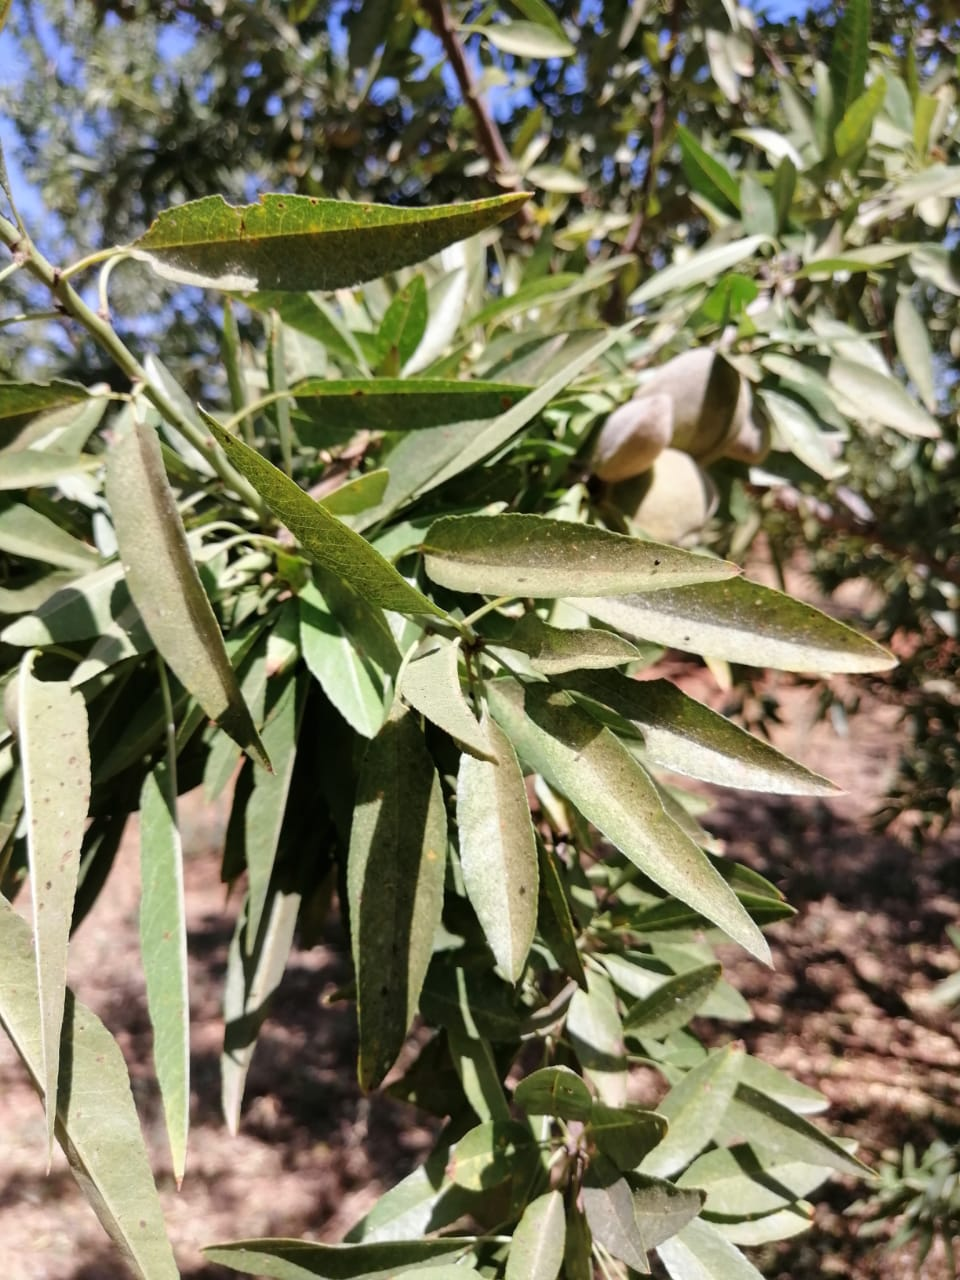acariens: (486, 675, 779, 971), (194, 399, 453, 615), (1, 672, 90, 1175), (421, 510, 746, 599), (455, 717, 538, 987)
othyorinques: (124, 190, 537, 294)
